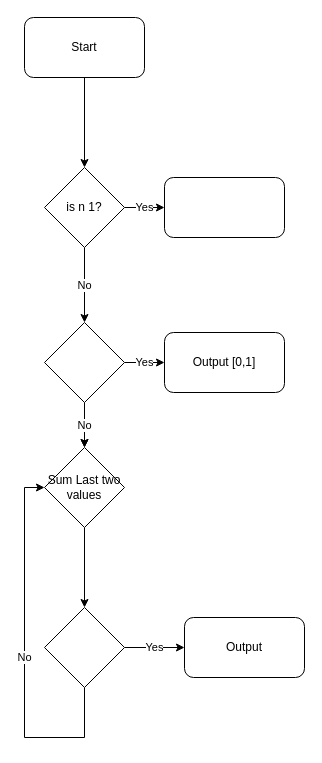
Image size: 322x763. Some labels were removed from this diagram. The box of each missing label's shape, as (x1, y1, x2, y2) in pixels:
Does N equals number of items in outpout?: (44, 606, 124, 688)
is n 2?: (44, 322, 124, 402)
Output [0]: (164, 176, 284, 238)
